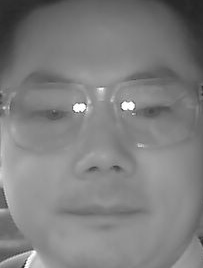eye: (34, 103, 70, 124), (136, 103, 172, 119)
glass: (7, 80, 92, 149), (115, 76, 193, 146)
mouth: (63, 190, 145, 233)
